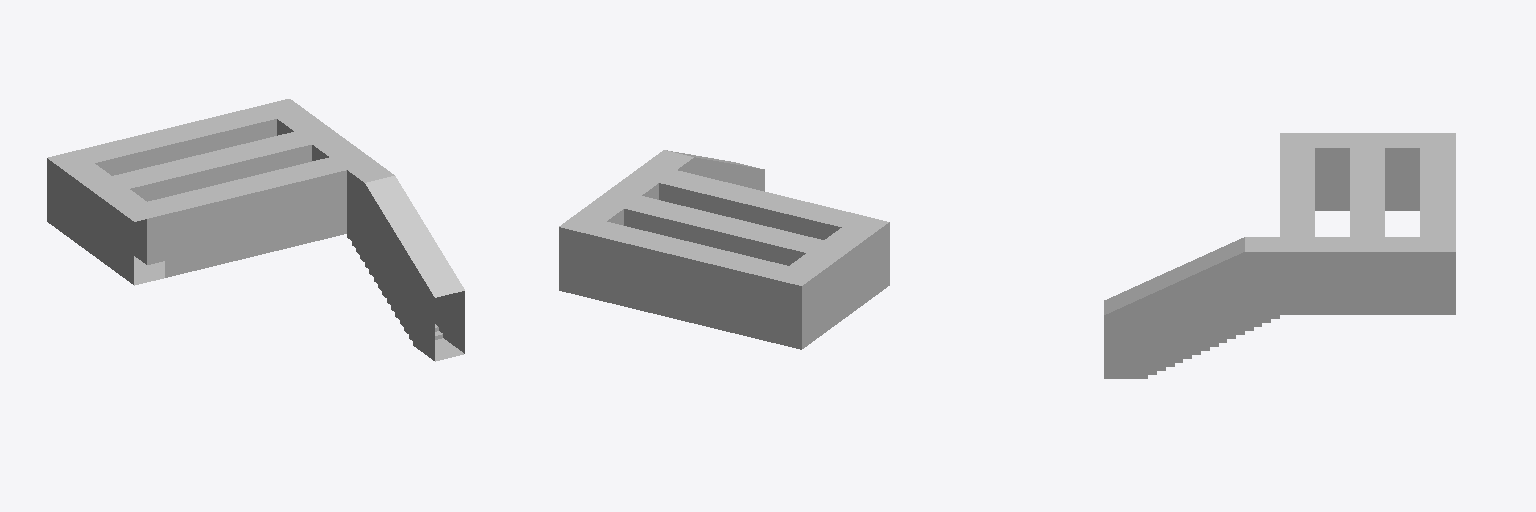
Rendered from map6.obj.
3 views of the same model, side by side, from view 1: azimuth 30°, elevation 25°; view 2: azimuth 150°, elevation 25°; view 3: azimuth 270°, elevation 25° (orthographic).
Parts seen in each view (by area): view 1: map6; view 2: map6; view 3: map6.
Boxes of the visible parts, <box> form: map6: <box>47,99,464,361</box>; map6: <box>559,150,889,349</box>; map6: <box>1104,133,1455,378</box>.
Bounding box in the file's own units: 8 × 4 × 10.